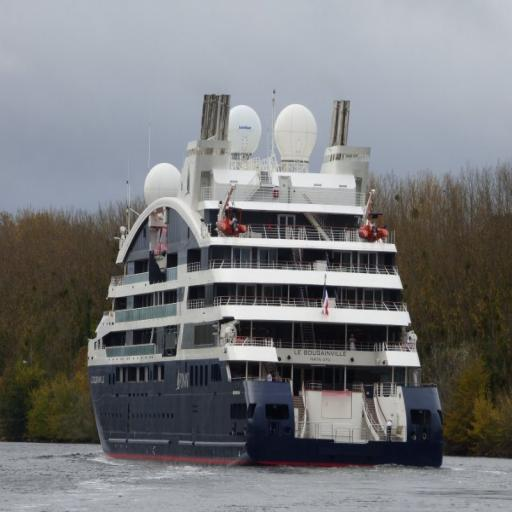cruises: (84, 90, 447, 475)
